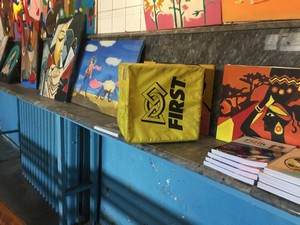cube: (119, 63, 203, 144)
